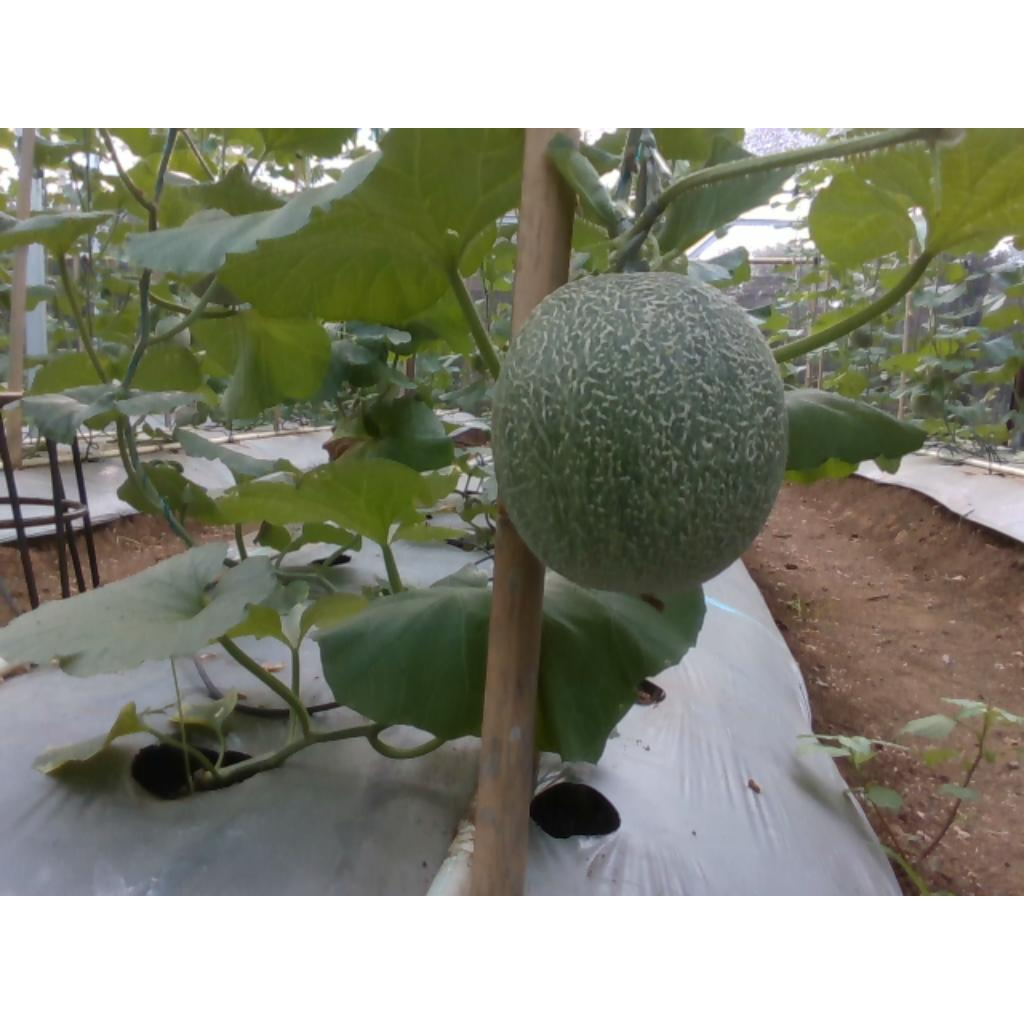melon: (494, 274, 787, 594)
